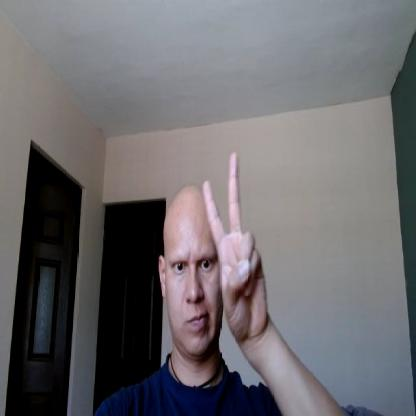V: (202, 150, 268, 340)
